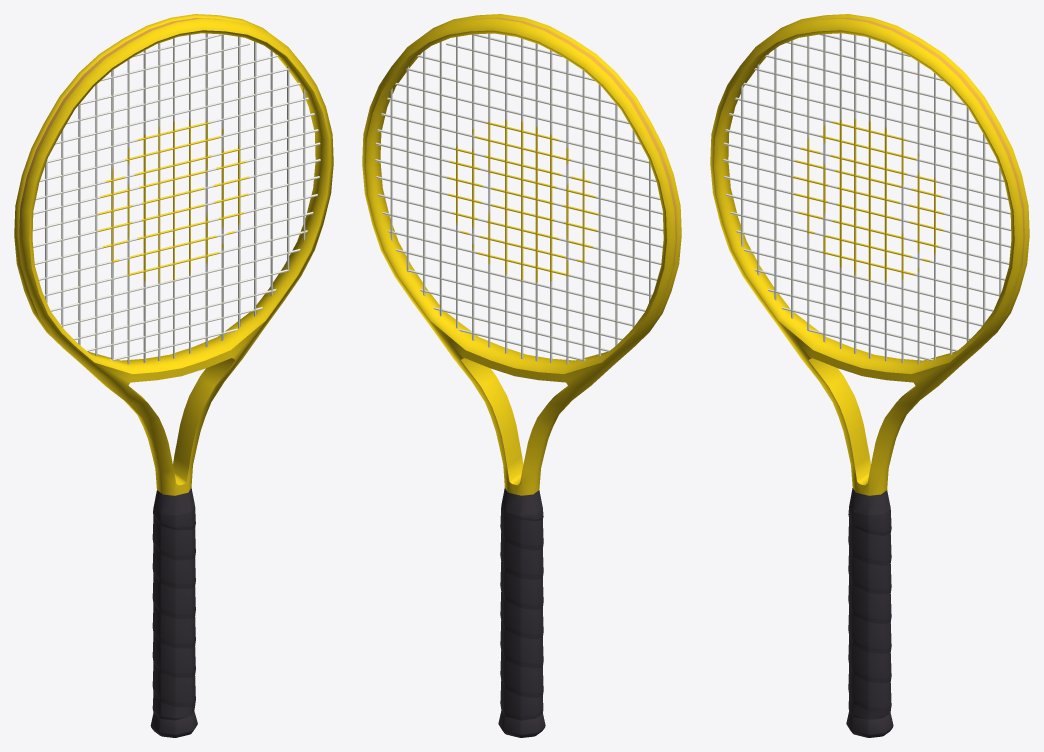
File: Racquet_Fat.FBX
3 views of the same model, side by side, from view 1: azimuth 30°, elevation 25°; view 2: azimuth 150°, elevation 25°; view 3: azimuth 330°, elevation 25° (orthographic).
Visible parts, largest first — view 1: Racquet_Fat; view 2: Racquet_Fat; view 3: Racquet_Fat.
Boxes of the visible parts, x1=… form: Racquet_Fat: x1=14, y1=14, x2=333, y2=737; Racquet_Fat: x1=362, y1=14, x2=681, y2=737; Racquet_Fat: x1=710, y1=14, x2=1029, y2=737.
Bounding box in the file's own units: 29.32 × 63.62 × 3.41.
Materials: 1 (1 with a texture image).
